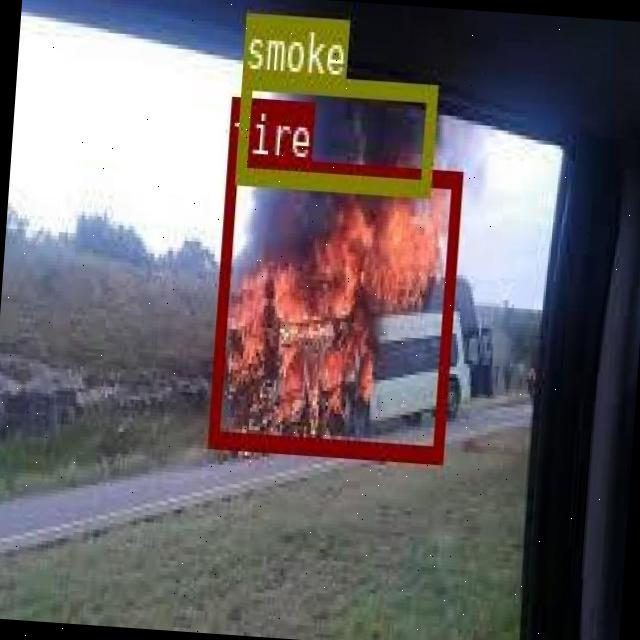fire: (206, 152, 461, 461)
smoke: (235, 69, 434, 193)
